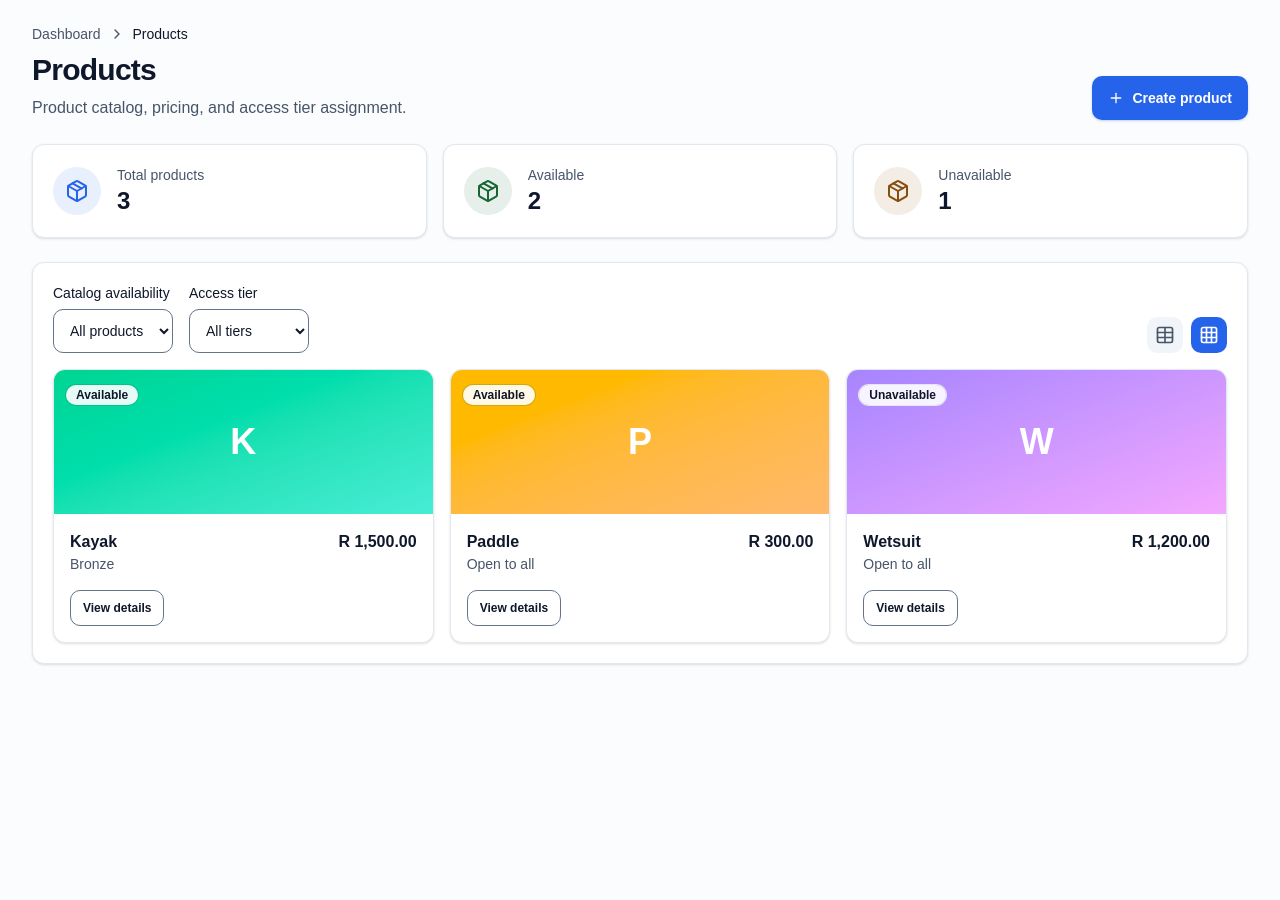
Test case: ProductsCatalog › filters products by search query
Click the button named "Table view" at (1165, 335), box [1147,317,1183,353]
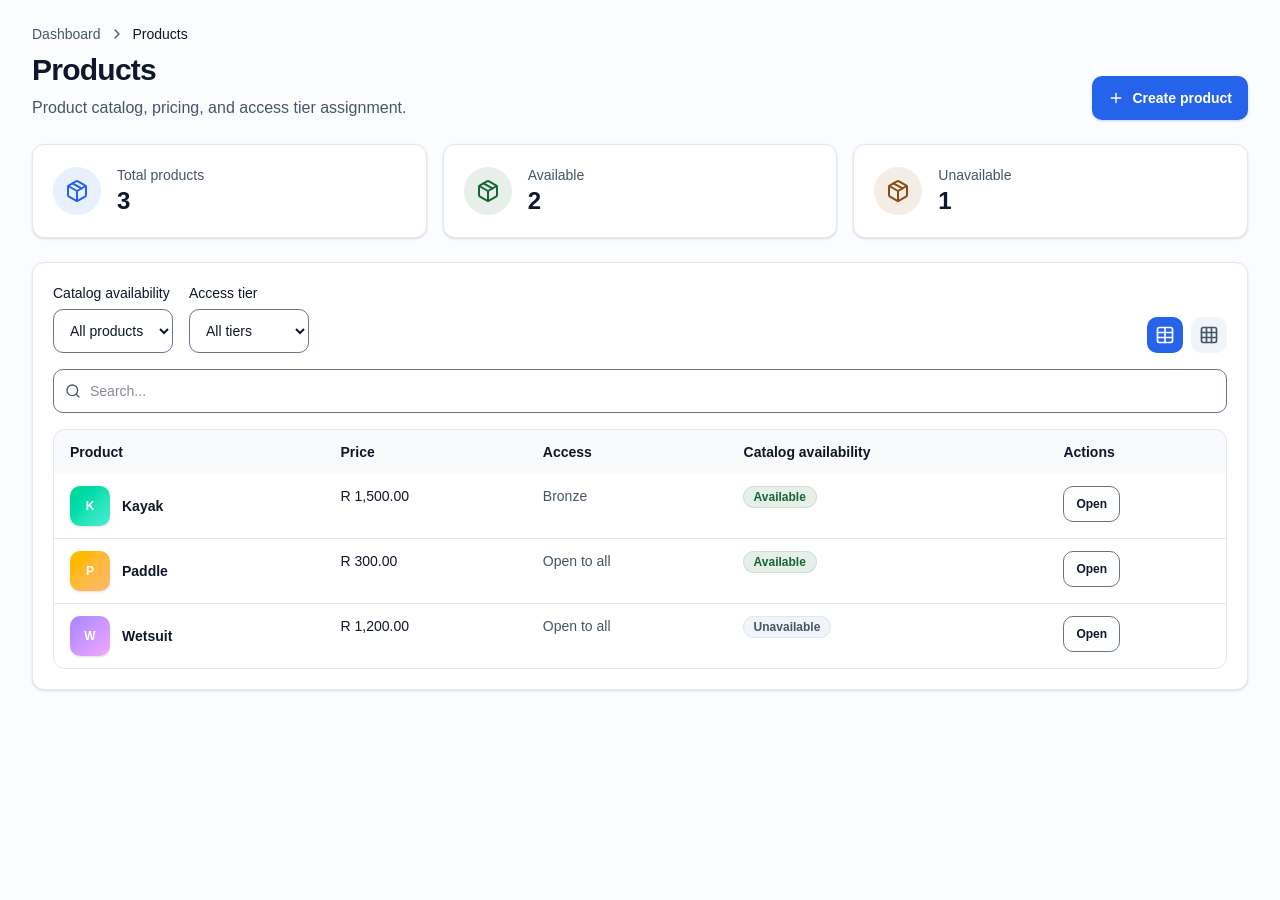
Type "kayak" into the search field with placeholder "Search..." at (640, 391), box [53,369,1227,413]
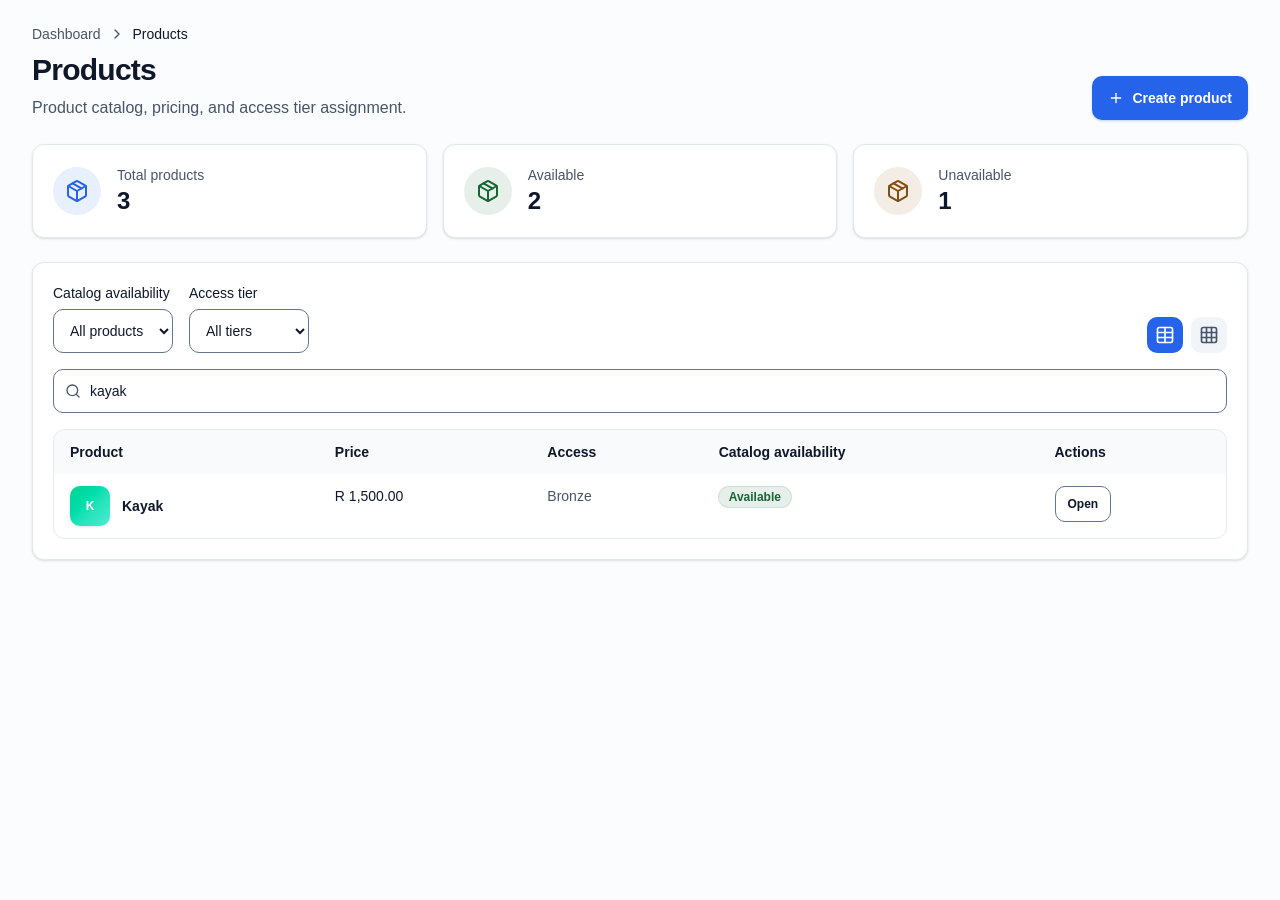
Expected: the text "Kayak" is shown, [122,496,163,516]
Expected: the text "Paddle" is gone
